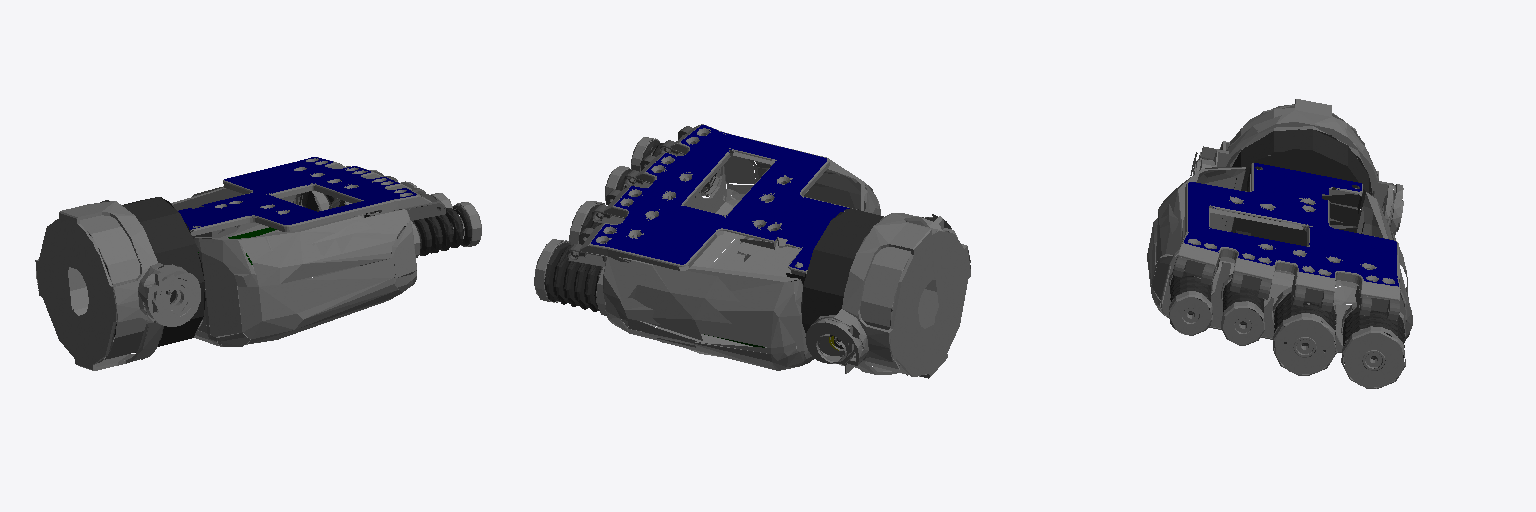
3 views of the same model, side by side, from view 1: azimuth 30°, elevation 25°; view 2: azimuth 150°, elevation 25°; view 3: azimuth 270°, elevation 25° (orthographic).
Size of the model in its own units: 0.1182 by 0.049 by 0.0795.
1 materials, 1 textured.